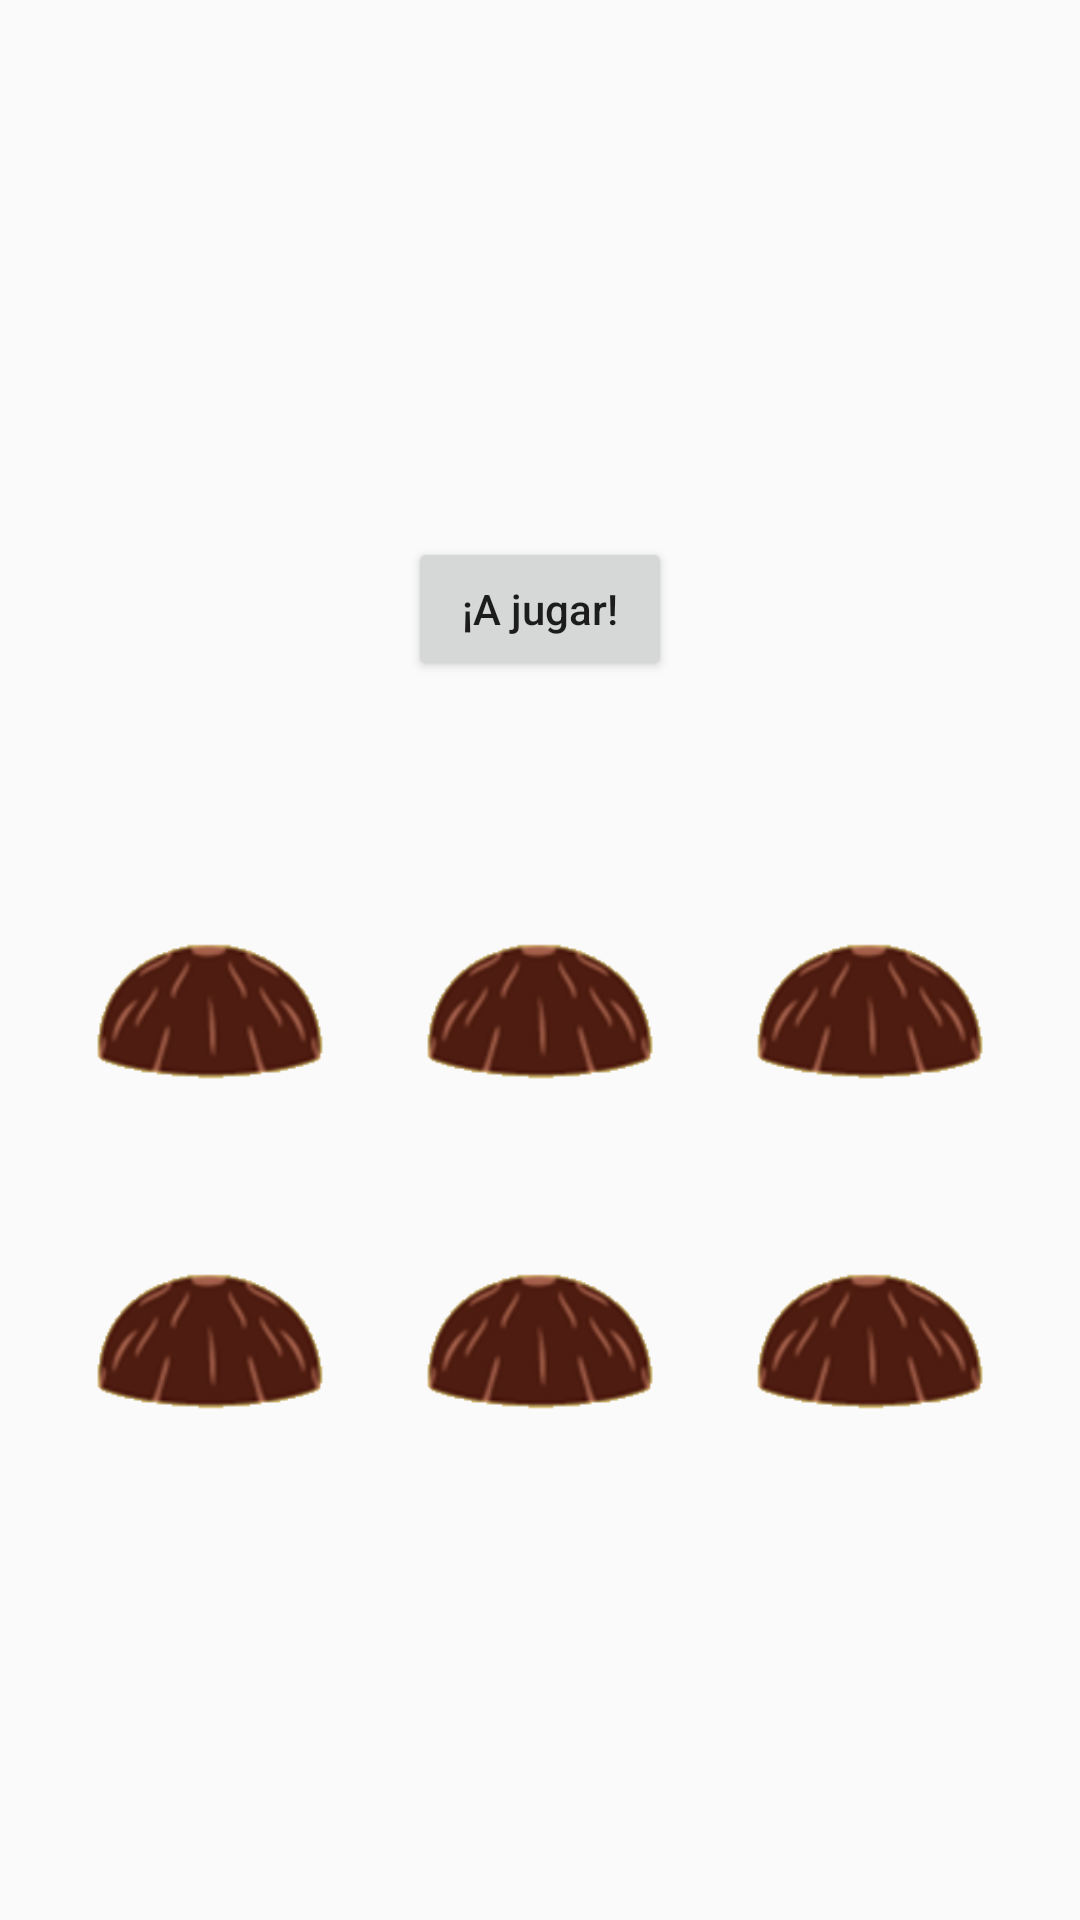

Named icons in this screenshot (1080×1920) and their bounding boxes, (x1, y1, x2, y2):
Cubilete 1: (97, 944, 323, 1079)
Cubilete 2: (427, 944, 653, 1079)
Cubilete 3: (757, 944, 983, 1079)
Cubilete 4: (97, 1274, 323, 1409)
Cubilete 5: (427, 1274, 653, 1409)
Cubilete 6: (757, 1274, 983, 1409)
